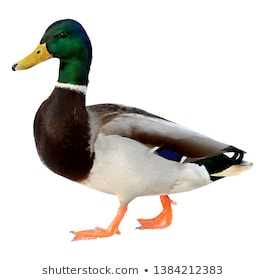duck: (6, 7, 258, 249)
